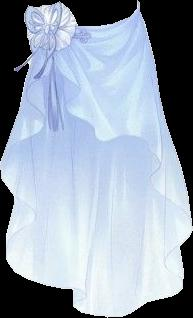Hemline: (1, 56, 192, 226)
Waistline: (42, 2, 140, 26)
